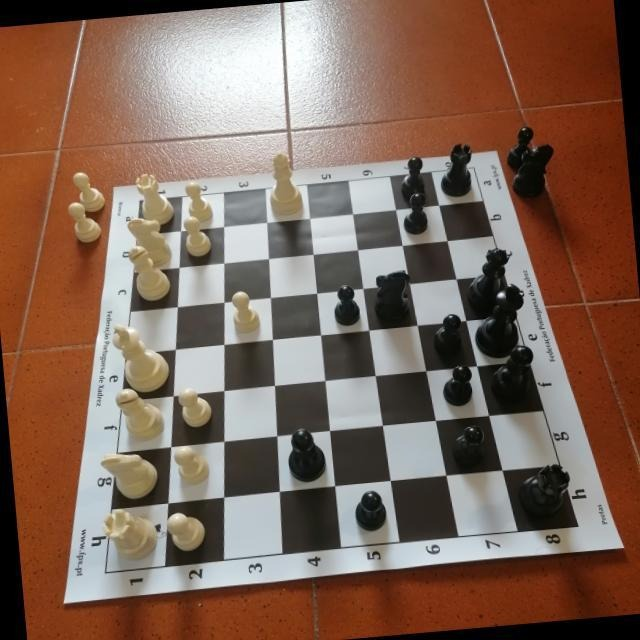black-bishop: (486, 343, 538, 409), (284, 426, 328, 484)
black-king: (469, 281, 529, 361)
black-knight: (507, 142, 559, 201), (370, 267, 414, 325)
black-pawn: (429, 312, 465, 360), (502, 124, 538, 172), (439, 362, 476, 408), (449, 423, 487, 467), (352, 487, 388, 533), (399, 191, 430, 237), (330, 282, 362, 326), (397, 155, 427, 201)
black-queen: (462, 245, 515, 315)
black-rook: (515, 460, 574, 523), (436, 140, 476, 199)
white-bishop: (113, 384, 166, 444), (126, 241, 172, 302)
white-king: (109, 318, 171, 396)
white-knight: (99, 448, 161, 502), (126, 214, 174, 270)
white-pawn: (164, 509, 207, 554), (172, 442, 211, 486), (66, 199, 102, 245), (176, 384, 213, 428), (71, 169, 107, 213), (230, 289, 262, 335), (182, 178, 213, 224), (181, 214, 212, 258)
white-queen: (264, 149, 304, 217)
white-rook: (100, 504, 160, 564), (134, 169, 176, 227)
